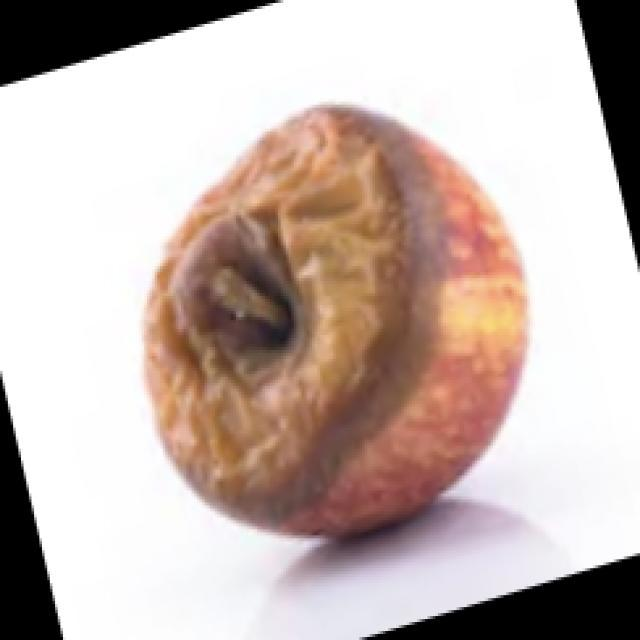Rotten: (150, 98, 532, 542)
